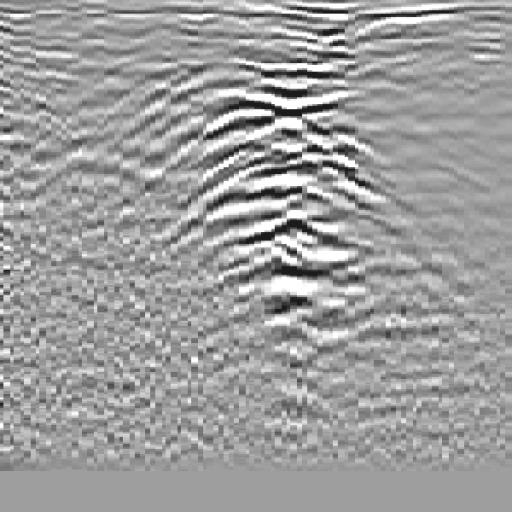metalic: (148, 40, 424, 376)
